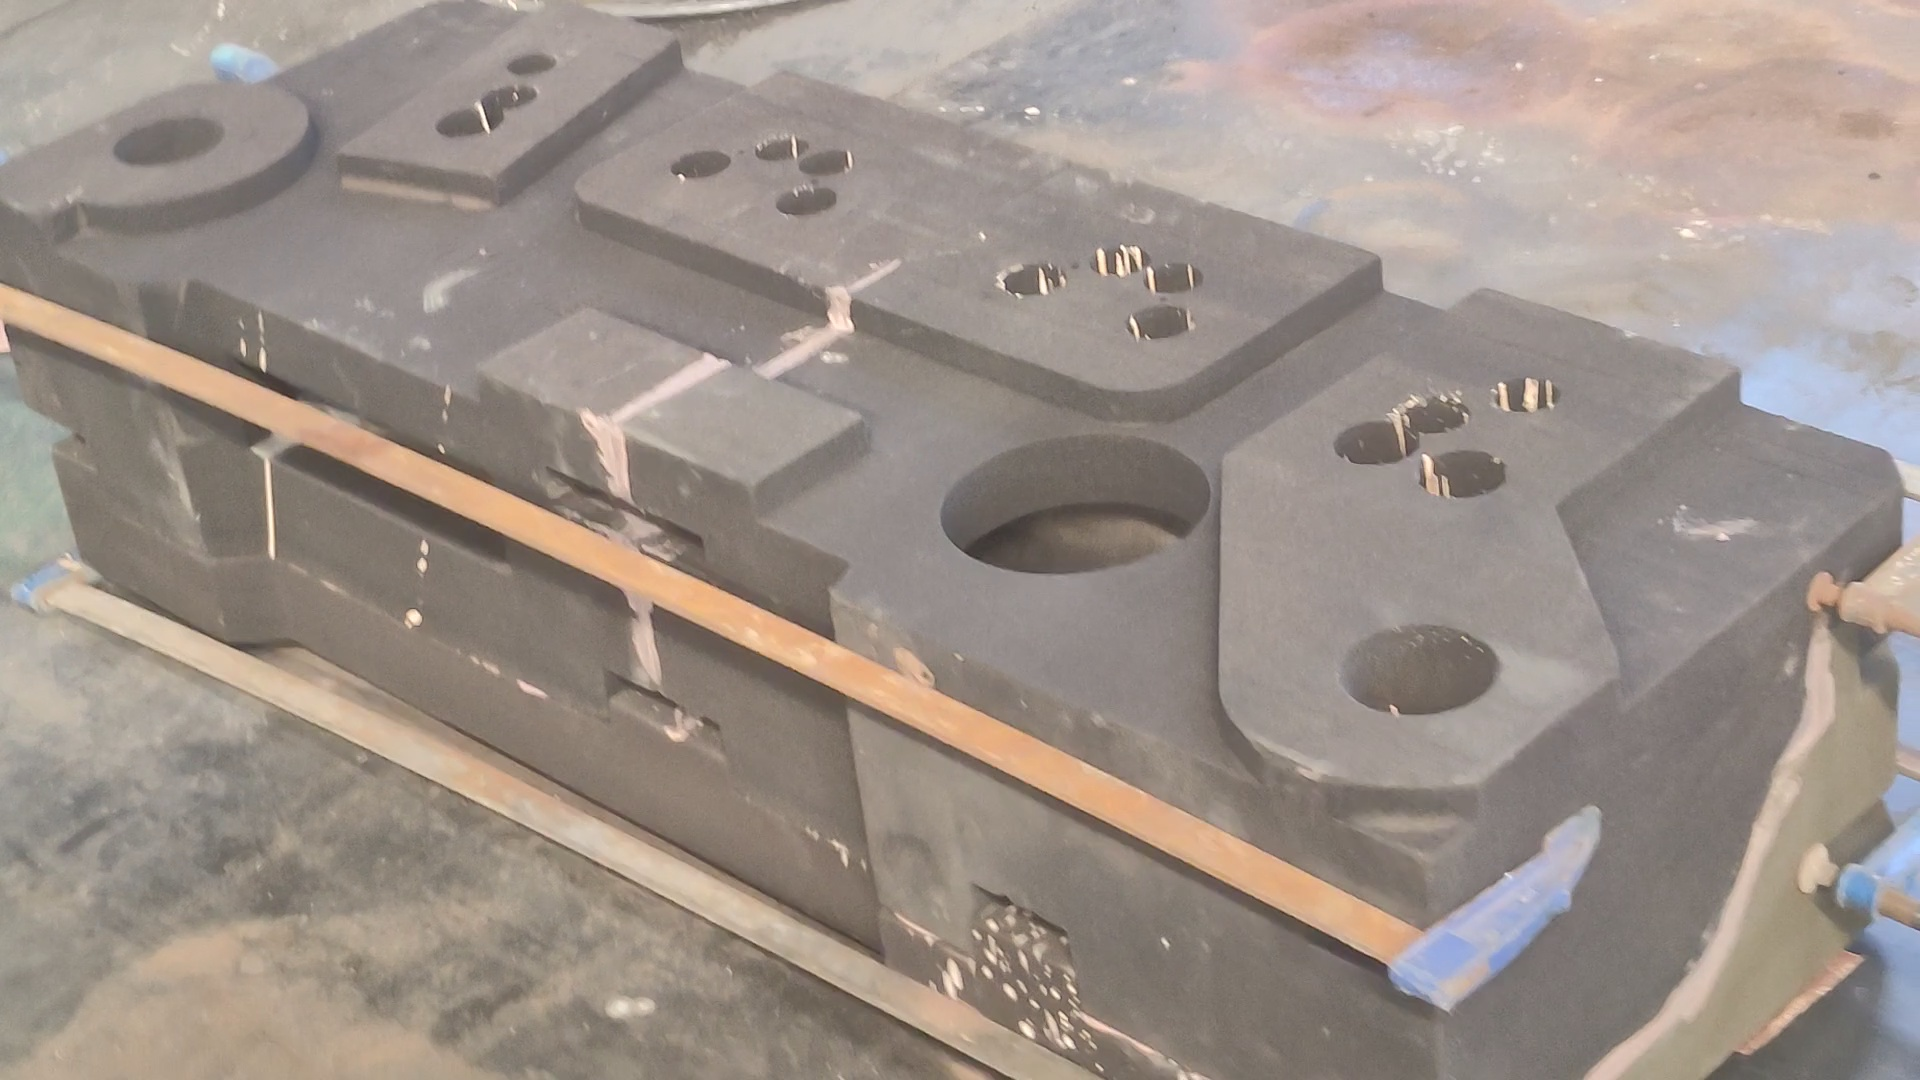pouring hole: (1336, 620, 1501, 713), (112, 117, 225, 164)
